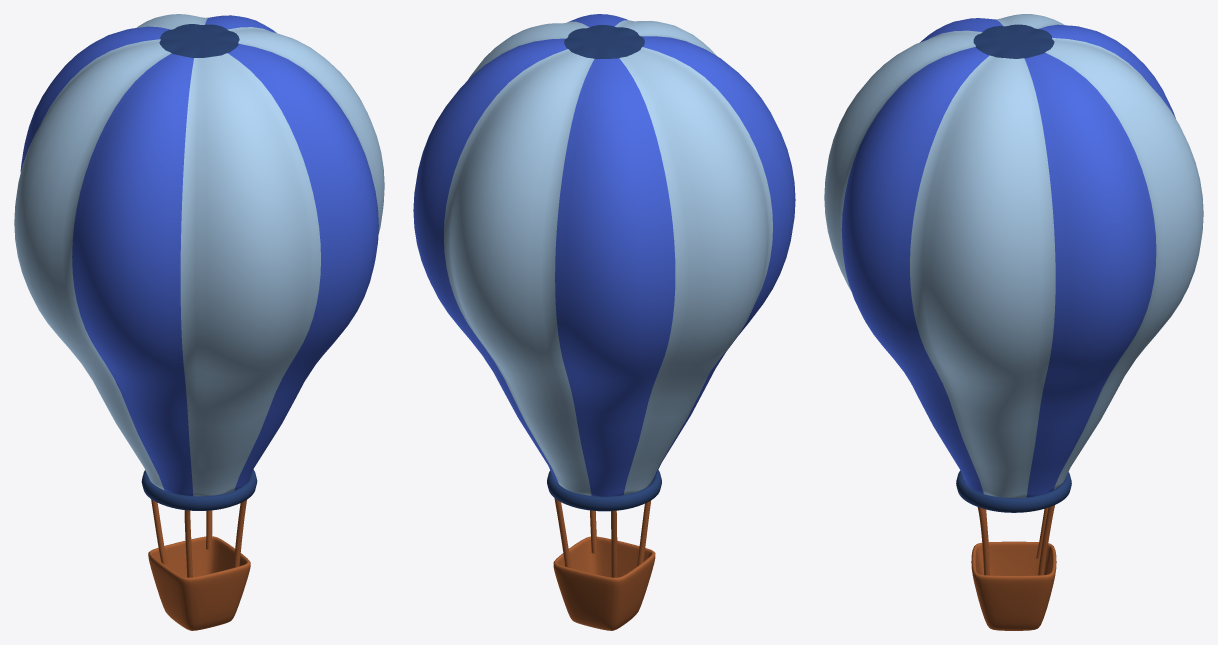
Rendered from Balloon04.fbx.
3 renders of one model, left to right at view 1: azimuth 30°, elevation 25°; view 2: azimuth 150°, elevation 25°; view 3: azimuth 270°, elevation 25°, orthographic.
Parts seen in each view (by area): view 1: Sphere.002; view 2: Sphere.002; view 3: Sphere.002.
Boxes of the visible parts, x1,y1,x2,y2 form: Sphere.002: (14,14,384,630); Sphere.002: (413,14,795,630); Sphere.002: (824,14,1203,630).
Bounding box in the file's own units: 203 × 344 × 203.
